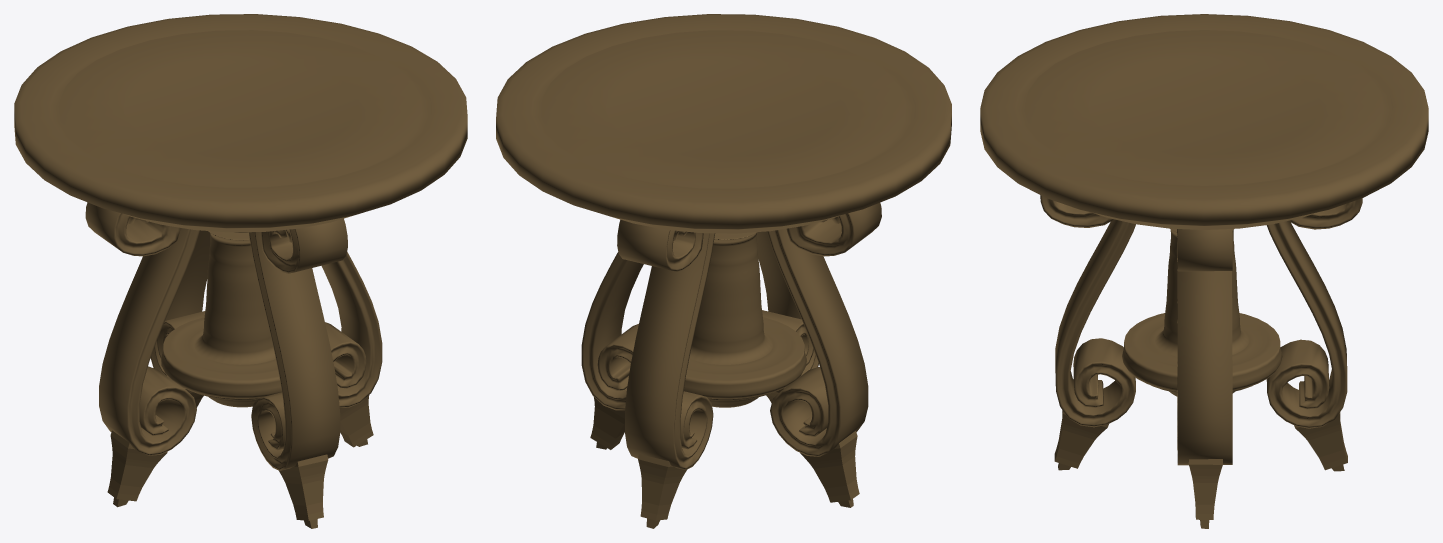
File: MapTable.fbx
The picture shows the model from 3 angles, left to right: view 1: azimuth 30°, elevation 25°; view 2: azimuth 150°, elevation 25°; view 3: azimuth 270°, elevation 25°; orthographic projection.
Visible parts, largest first — view 1: Table; view 2: Table; view 3: Table.
Part boxes in pixels (x1,y1,x2,y2): Table: [14, 14, 467, 528]; Table: [496, 14, 951, 528]; Table: [980, 14, 1428, 528].
Bounding box in the file's own units: 29.44 × 26.29 × 29.44.
